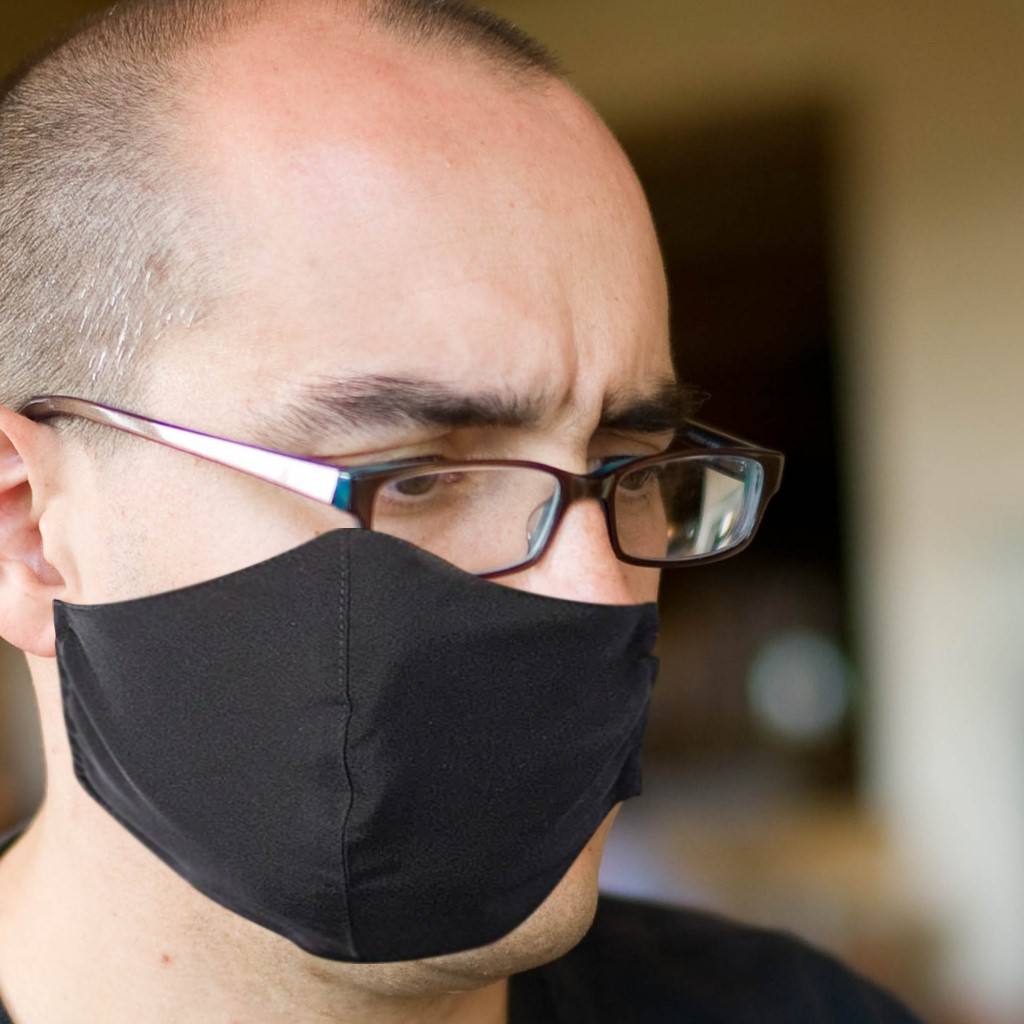con_mascara: (40, 24, 689, 980)
